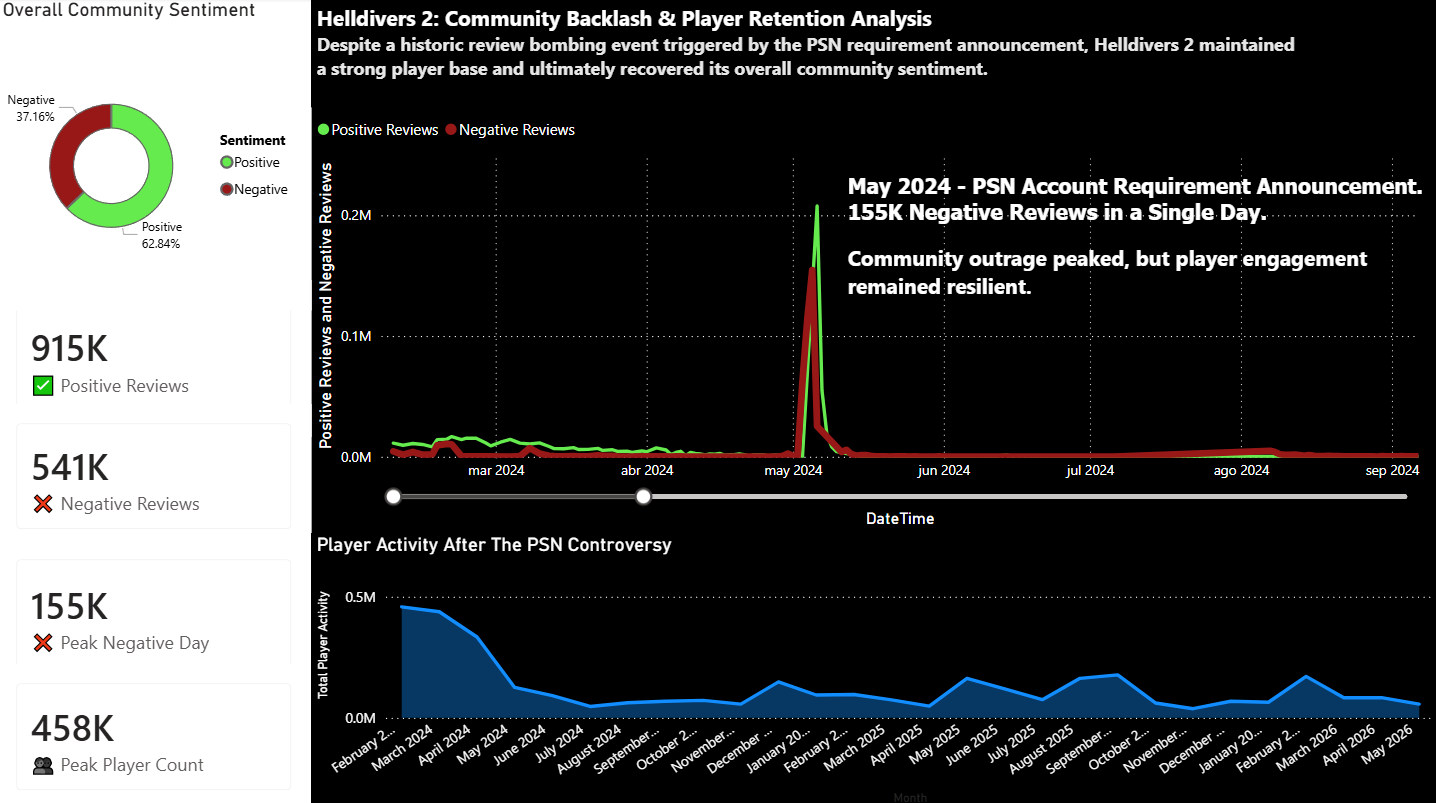

The page's visual inventory and layout, read from the dashboard file:
{"tool":"powerbi","page":{"name":"Page 1","canvas":[1280,720],"ordinal":0},"visuals":[{"type":"lineChart","title":"Community Sentiment Timeline","fields":{"Y":["Sum(DATASET REVIEWS.Positive reviews)","Calendar.Negative Reviews Absolute"],"Category":["DATASET REVIEWS.DateTime"]},"box":[278.6,77.6,1001,396.9],"z":0},{"type":"cardVisual","fields":{"Data":["Sum(DATASET REVIEWS.Positive reviews)"]},"box":[0,250,278.6,138.8],"z":1000},{"type":"cardVisual","fields":{"Data":["Sum(DATASET REVIEWS.Negative reviews)"]},"box":[0,360.2,278.6,128.6],"z":2000},{"type":"cardVisual","fields":{"Data":["Max(DATASET REVIEWS.Negative reviews)"]},"box":[0,480.6,278.6,133.7],"z":3000},{"type":"cardVisual","fields":{"Data":["Max(DATASET PLAYERS.Peak Players)"]},"box":[0,590.8,278.6,129.6],"z":4000},{"type":"textbox","box":[749.3,149.9,531.1,200.4],"z":5000},{"type":"donutChart","title":"Overall Community Sentiment","fields":{"Category":["Sentiment Summary.Sentiment"],"Y":["Sum(Sentiment Summary.Reviews)"]},"box":[0,0,278.6,276.5],"z":6000},{"type":"lineChart","title":"Player Activity After The PSN Controversy","fields":{"Category":["DATASET PLAYERS.Month"],"Y":["Sum(DATASET PLAYERS.Peak Players)"]},"box":[278.6,474.5,1001,245.9],"z":7000},{"type":"textbox","box":[278.6,0,1001,96.9],"z":8000}]}

Visuals, with their boxes in screenshot pixels (x1, y1, x2, y2), scaled from the page's 1280x720 canvas onto the 1436x803 screenshot:
"Community Sentiment Timeline" lineChart: {"left": 313, "top": 87, "right": 1435, "bottom": 529}
cardVisual - Sum(DATASET REVIEWS.Positive reviews): {"left": 0, "top": 279, "right": 313, "bottom": 434}
cardVisual - Sum(DATASET REVIEWS.Negative reviews): {"left": 0, "top": 402, "right": 313, "bottom": 545}
cardVisual - Max(DATASET REVIEWS.Negative reviews): {"left": 0, "top": 536, "right": 313, "bottom": 685}
cardVisual - Max(DATASET PLAYERS.Peak Players): {"left": 0, "top": 659, "right": 313, "bottom": 802}
textbox: {"left": 841, "top": 167, "right": 1435, "bottom": 391}
"Overall Community Sentiment" donutChart: {"left": 0, "top": 0, "right": 313, "bottom": 308}
"Player Activity After The PSN Controversy" lineChart: {"left": 313, "top": 529, "right": 1435, "bottom": 802}
textbox: {"left": 313, "top": 0, "right": 1435, "bottom": 108}
